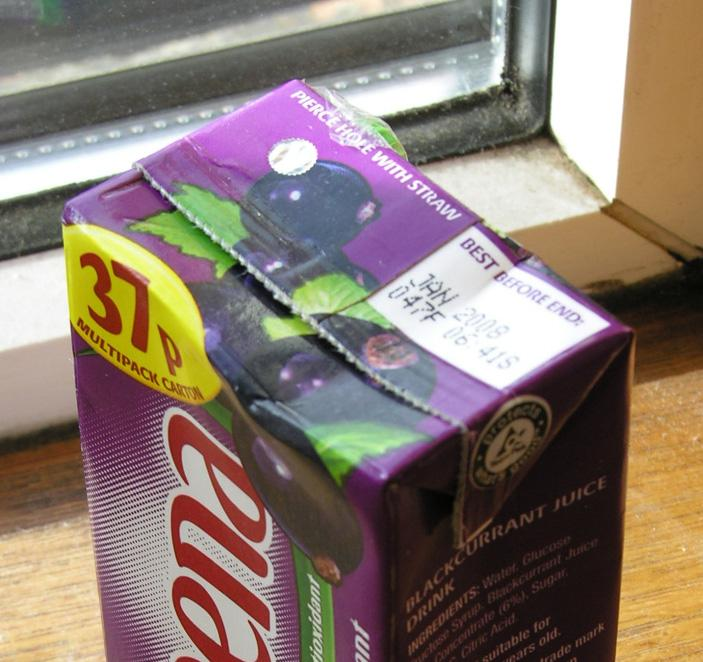cardboard: (62, 77, 634, 662)
